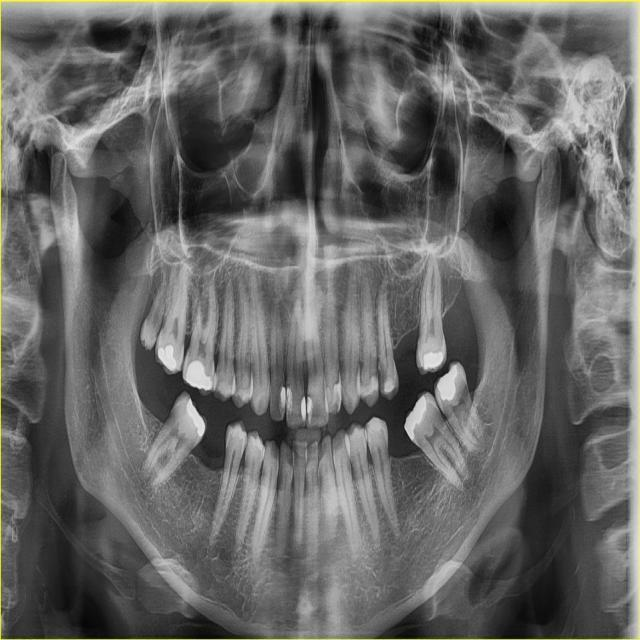Caries: (376, 358, 388, 392), (318, 436, 331, 464), (367, 354, 378, 380), (270, 442, 279, 459), (340, 360, 346, 384), (286, 448, 293, 467), (359, 361, 365, 383), (293, 442, 298, 462)
Filling: (404, 395, 426, 440), (185, 360, 212, 390), (436, 364, 458, 400), (324, 368, 341, 413), (187, 398, 205, 436), (157, 345, 176, 371), (423, 351, 444, 369), (280, 384, 289, 410), (368, 417, 383, 432), (286, 384, 292, 421), (368, 377, 379, 397), (306, 395, 313, 424), (385, 377, 394, 393), (301, 396, 306, 422)
Missing teeth: (191, 426, 228, 472), (385, 422, 428, 461), (394, 322, 417, 376)
